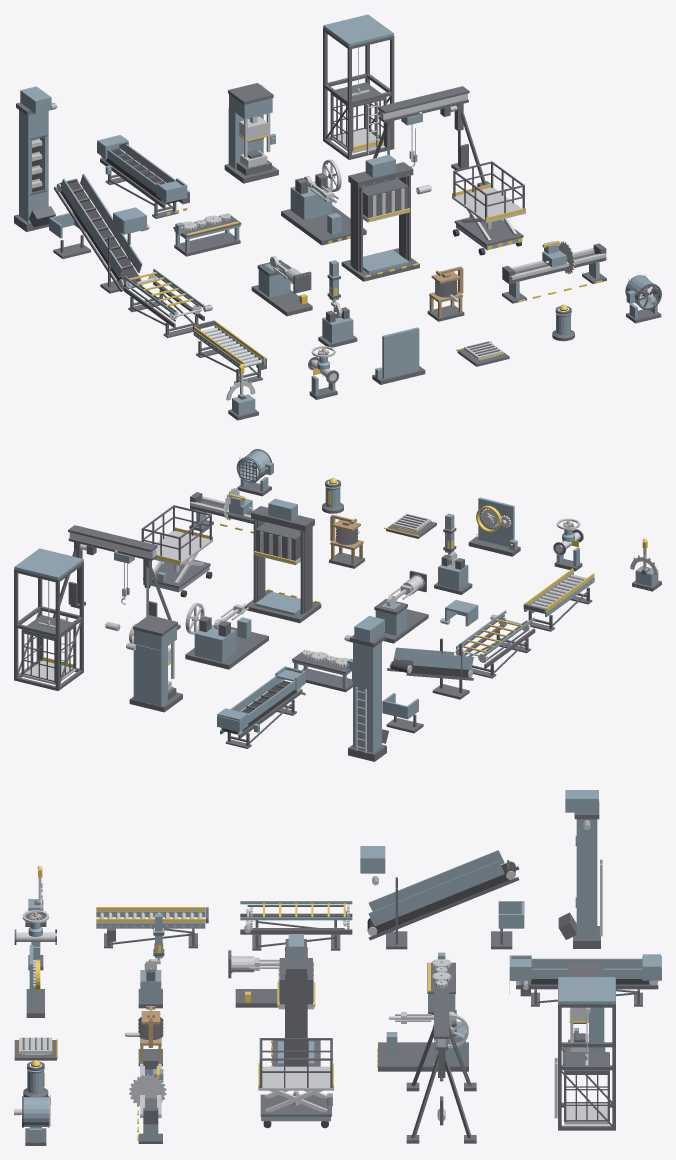
The model's file is animated-mechanisms-kit-machine-room-5de13ddf-starter-scene__24658.glb.
3 renders of one model, top to bottom at view 1: azimuth 30°, elevation 25°; view 2: azimuth 150°, elevation 25°; view 3: azimuth 270°, elevation 25°, orthographic. The views are drawn at different scales.
Parts seen in each view (by area): view 1: 000-bucket-elevator/0, 004-conveyor-lift/4, 010-crusher-block/0, 003-cage-elevator/0, 007-rope-hoist/0, 001-belt-conveyor-straight/4, 018-gear-pair/1, 002-stamping-press/1, 006-crank-flywheel/0, 008-chain-conveyor/2, 003-cage-elevator/cage/iron, 002-stamping-press/0 (+23 smaller); view 2: 000-bucket-elevator/0, 003-cage-elevator/0, 010-crusher-block/0, 002-stamping-press/1, 007-rope-hoist/0, 004-conveyor-lift/4, 001-belt-conveyor-straight/4, 003-cage-elevator/cage/iron, 006-crank-flywheel/1, 006-crank-flywheel/0, 008-chain-conveyor/2, 003-cage-elevator/1 (+26 smaller); view 3: 004-conveyor-lift/4, 000-bucket-elevator/0, 007-rope-hoist/0, 010-crusher-block/0, 001-belt-conveyor-straight/4, 003-cage-elevator/0, 008-chain-conveyor/2, 006-crank-flywheel/0, 003-cage-elevator/cage/iron, 004-conveyor-lift/3, 003-cage-elevator/1, 011-scissor-lift/deck/steel (+22 smaller).
Part boxes in pixels (<box>): 000-bucket-elevator/0: <box>19,86,51,222</box>; 004-conveyor-lift/4: <box>49,174,146,277</box>; 010-crusher-block/0: <box>341,162,419,281</box>; 003-cage-elevator/0: <box>323,27,394,159</box>; 007-rope-hoist/0: <box>373,86,490,186</box>; 001-belt-conveyor-straight/4: <box>97,135,187,202</box>; 018-gear-pair/1: <box>375,327,419,378</box>; 002-stamping-press/1: <box>228,94,275,169</box>; 006-crank-flywheel/0: <box>281,173,366,245</box>; 008-chain-conveyor/2: <box>123,273,204,338</box>; 003-cage-elevator/cage/iron: <box>330,82,386,151</box>; 002-stamping-press/0: <box>224,83,278,183</box>; 000-bucket-elevator/0: <box>353,616,384,752</box>; 003-cage-elevator/0: <box>14,561,83,690</box>; 010-crusher-block/0: <box>244,506,321,623</box>; 002-stamping-press/1: <box>133,626,176,706</box>; 007-rope-hoist/0: <box>52,525,180,630</box>; 004-conveyor-lift/4: <box>382,600,478,719</box>; 001-belt-conveyor-straight/4: <box>217,666,305,732</box>; 003-cage-elevator/cage/iron: <box>21,615,76,682</box>; 006-crank-flywheel/1: <box>194,617,251,662</box>; 006-crank-flywheel/0: <box>185,616,268,669</box>; 008-chain-conveyor/2: <box>463,615,535,678</box>; 003-cage-elevator/1: <box>14,548,83,579</box>; 004-conveyor-lift/4: <box>360,846,524,928</box>; 000-bucket-elevator/0: <box>565,790,598,938</box>; 007-rope-hoist/0: <box>406,990,476,1143</box>; 010-crusher-block/0: <box>272,939,320,1066</box>; 001-belt-conveyor-straight/4: <box>509,954,661,980</box>; 003-cage-elevator/0: <box>558,980,615,1130</box>; 008-chain-conveyor/2: <box>240,905,352,950</box>; 006-crank-flywheel/0: <box>378,1009,468,1071</box>; 003-cage-elevator/cage/iron: <box>564,1052,609,1121</box>; 004-conveyor-lift/3: <box>368,866,519,949</box>; 003-cage-elevator/1: <box>558,977,615,1004</box>; 011-scissor-lift/deck/steel: <box>258,1066,333,1090</box>.
Size of the model in its own units: 18.26 by 5.36 by 21.39.
